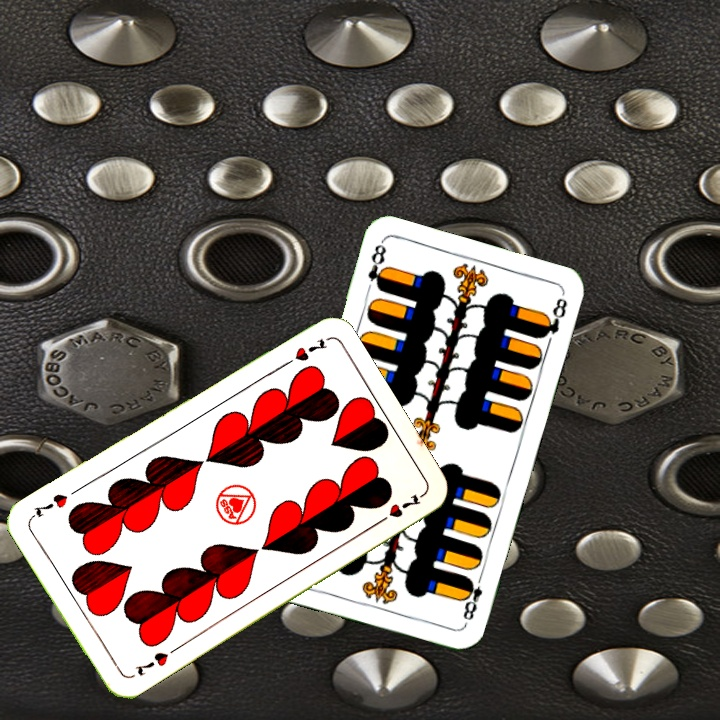E8: (458, 569, 486, 627), (363, 238, 390, 293)
H7: (277, 334, 330, 371), (130, 643, 180, 679)
